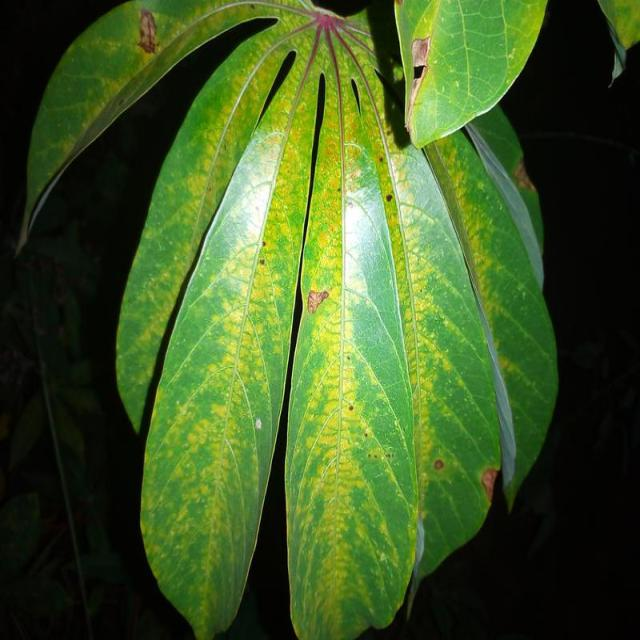cassava leaf: (15, 0, 559, 638)
